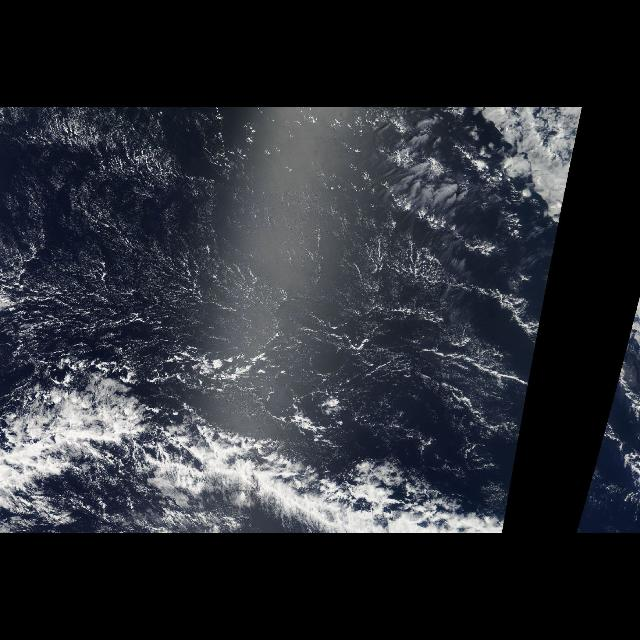Sugar: (3, 114, 459, 396)
